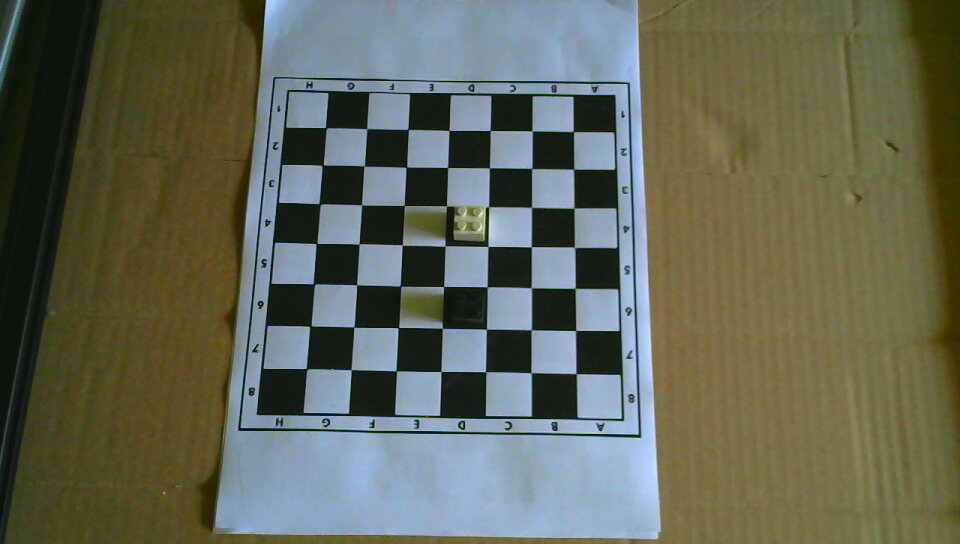bp: (446, 285, 487, 327)
wp: (451, 203, 488, 244)
